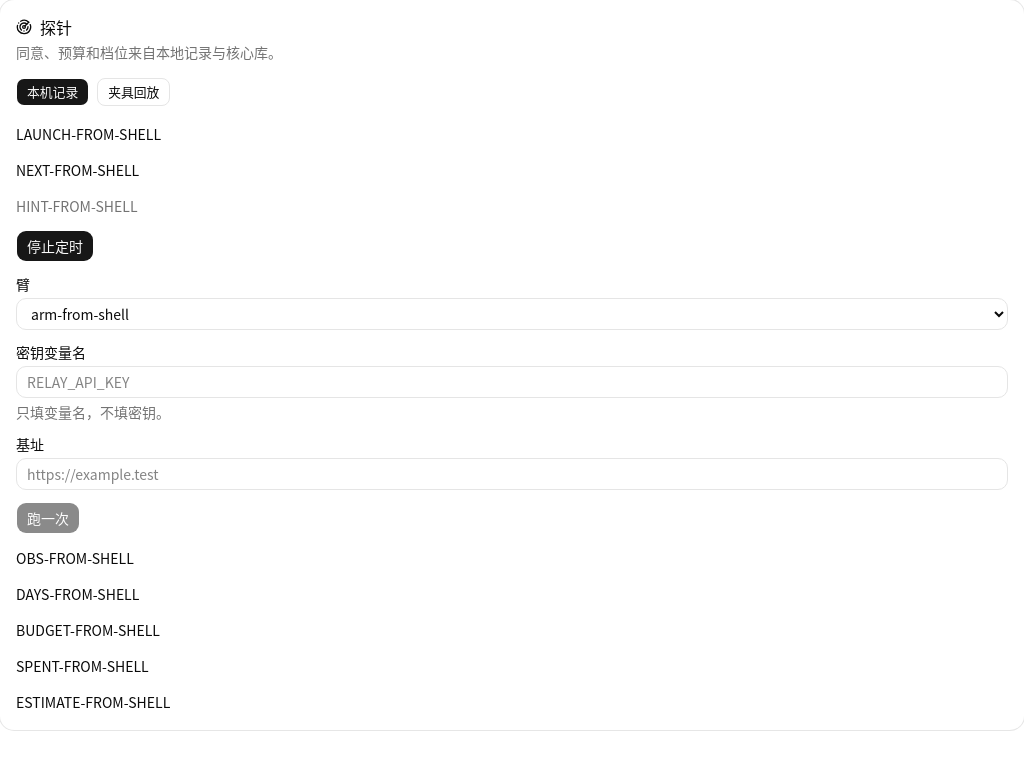
stopping the schedule does not run a probe
Click the button "停止定时".
click(55, 246)  # box x1=16 y1=230 x2=94 y2=262
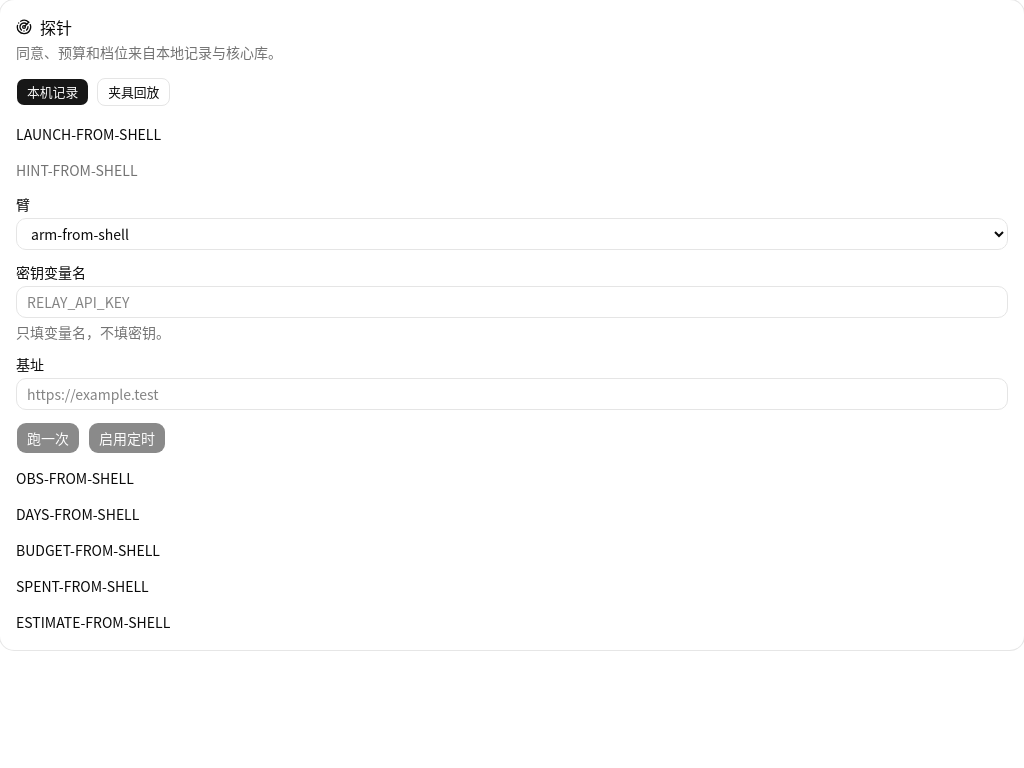
Expected: the button "启用定时" is shown, x1=88 y1=422 x2=166 y2=454
Expected: the text "NEXT-FROM-SHELL" is gone
